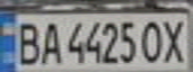2: (100, 17, 121, 64)
4: (63, 17, 87, 64), (81, 17, 103, 65)
5: (118, 17, 142, 64)
A: (36, 18, 63, 65)
B: (9, 18, 42, 66)
O: (139, 17, 166, 64)
X: (160, 16, 190, 64)
